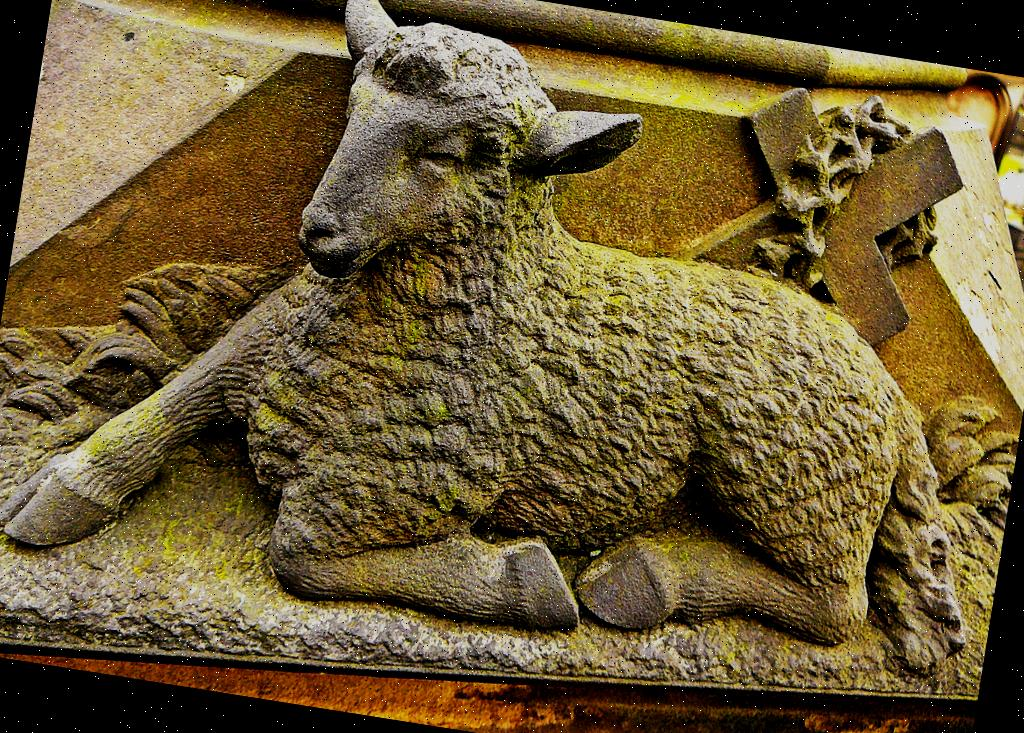Sheep: (0, 0, 1024, 706)
